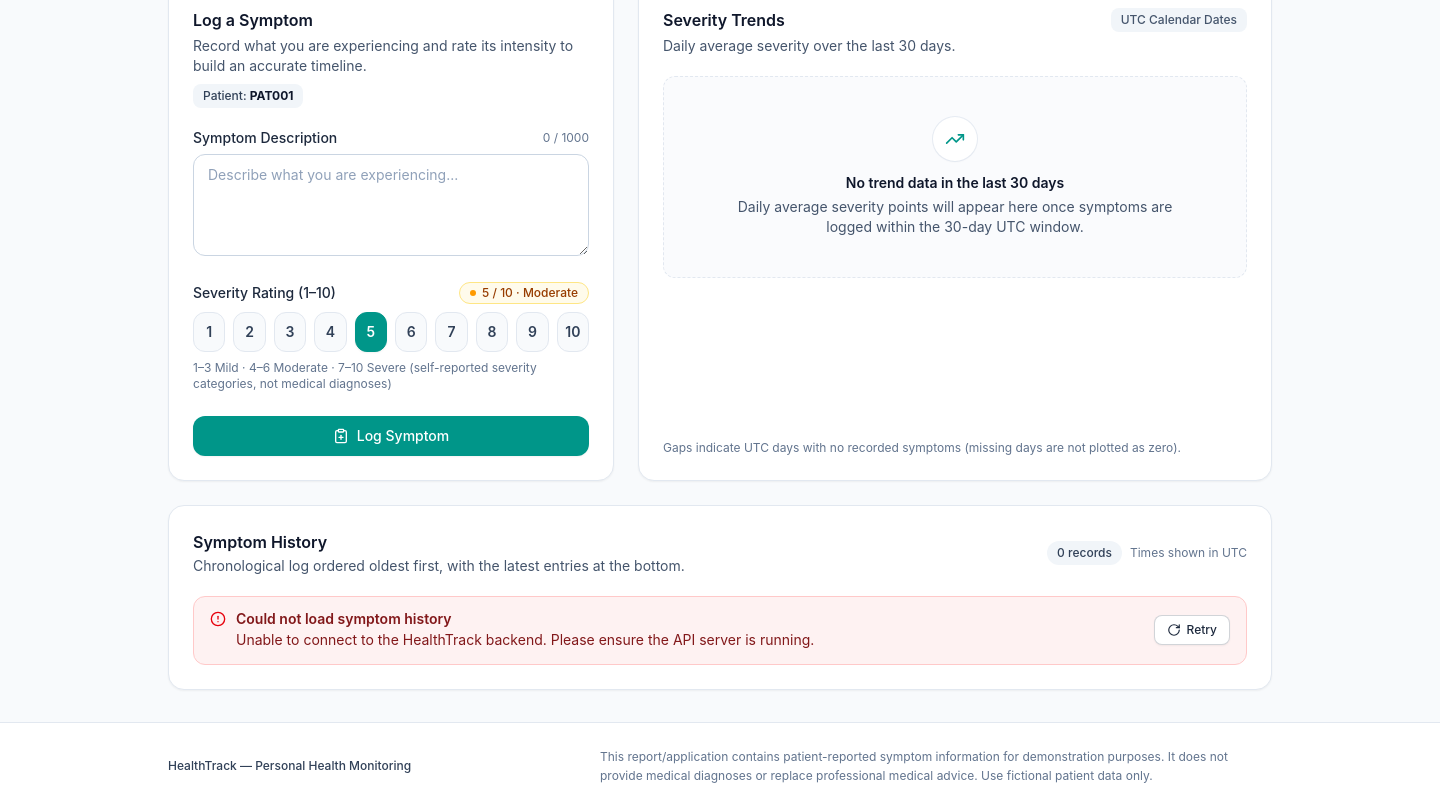
HealthTrack Dashboard › recovers from failed history retrieval via Retry and handles post-save refresh failure
The image size is (1440, 810).
(page scrolled)
Expected: the text "Could not load symptom history" is shown, [236,610,452,627]
Click the button "Retry" at [1192, 630], box [1154,615,1230,645]
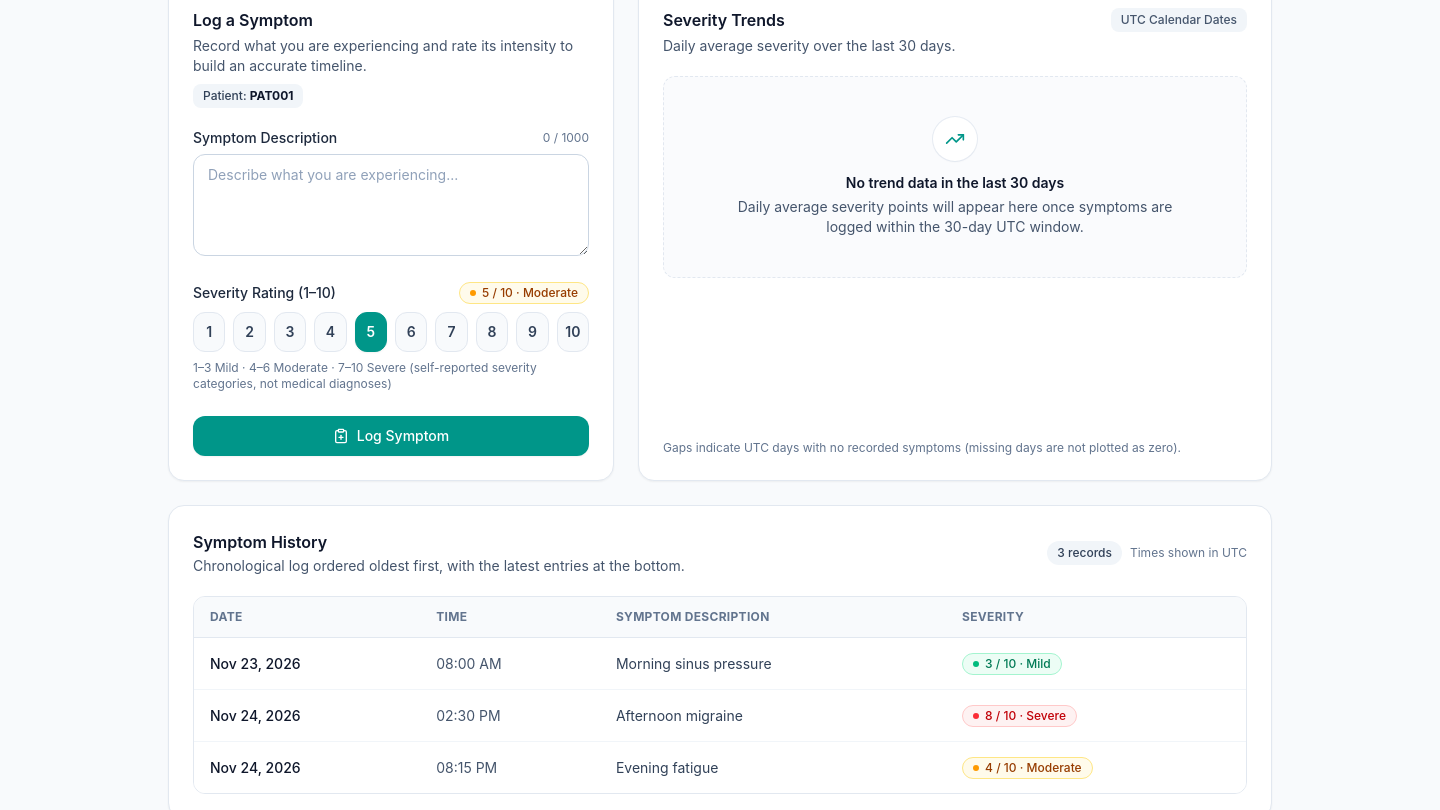
Expected: the text "Morning sinus pressure" is shown, [600,638,946,690]
# Now submit a symptom where POST succeeds (201) but subsequent history refresh fails
Type "Post-save refresh test" into the text box labelled "Symptom Description" at [391, 205], box [193,154,589,256]
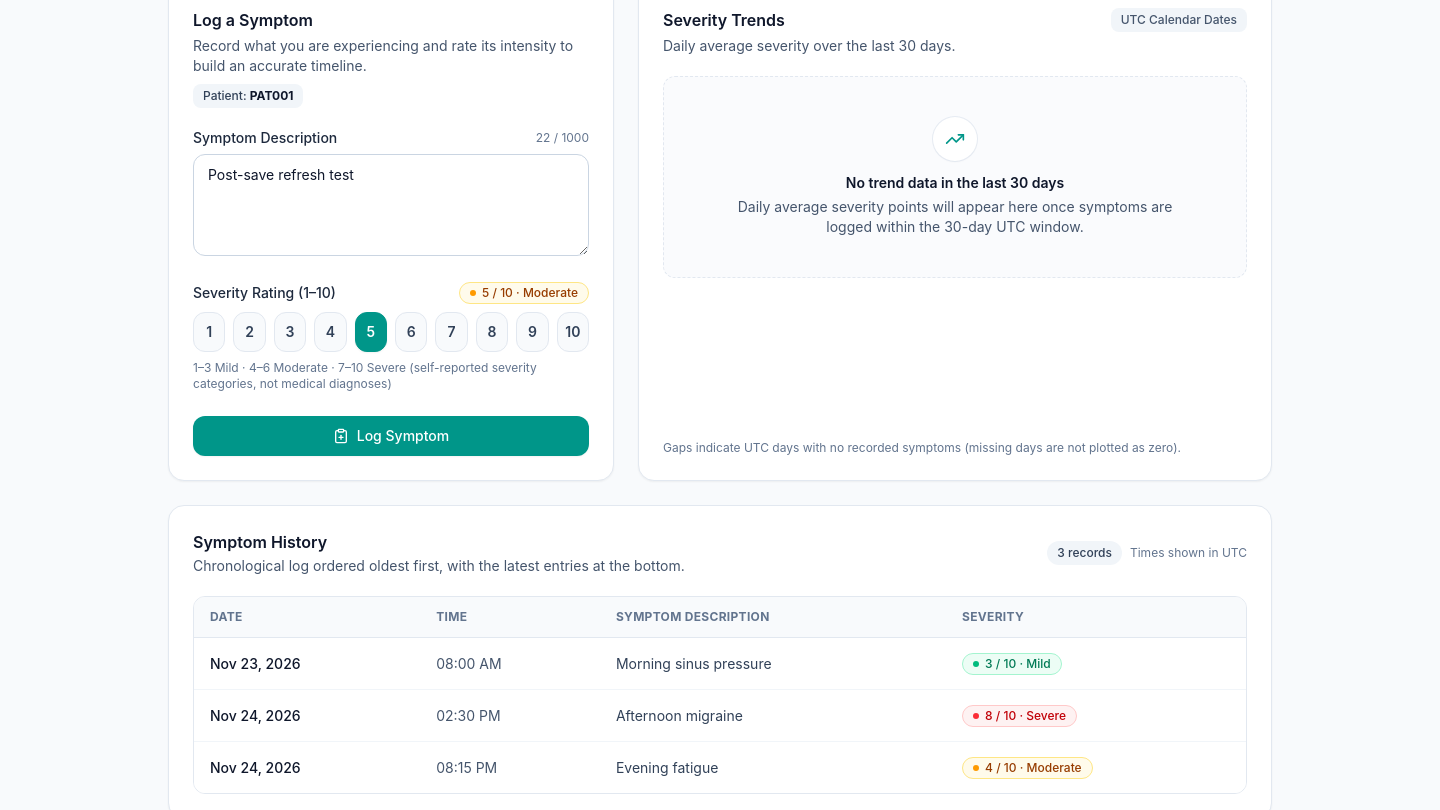
Click the button "Log Symptom" at [391, 436], box [193,416,589,456]
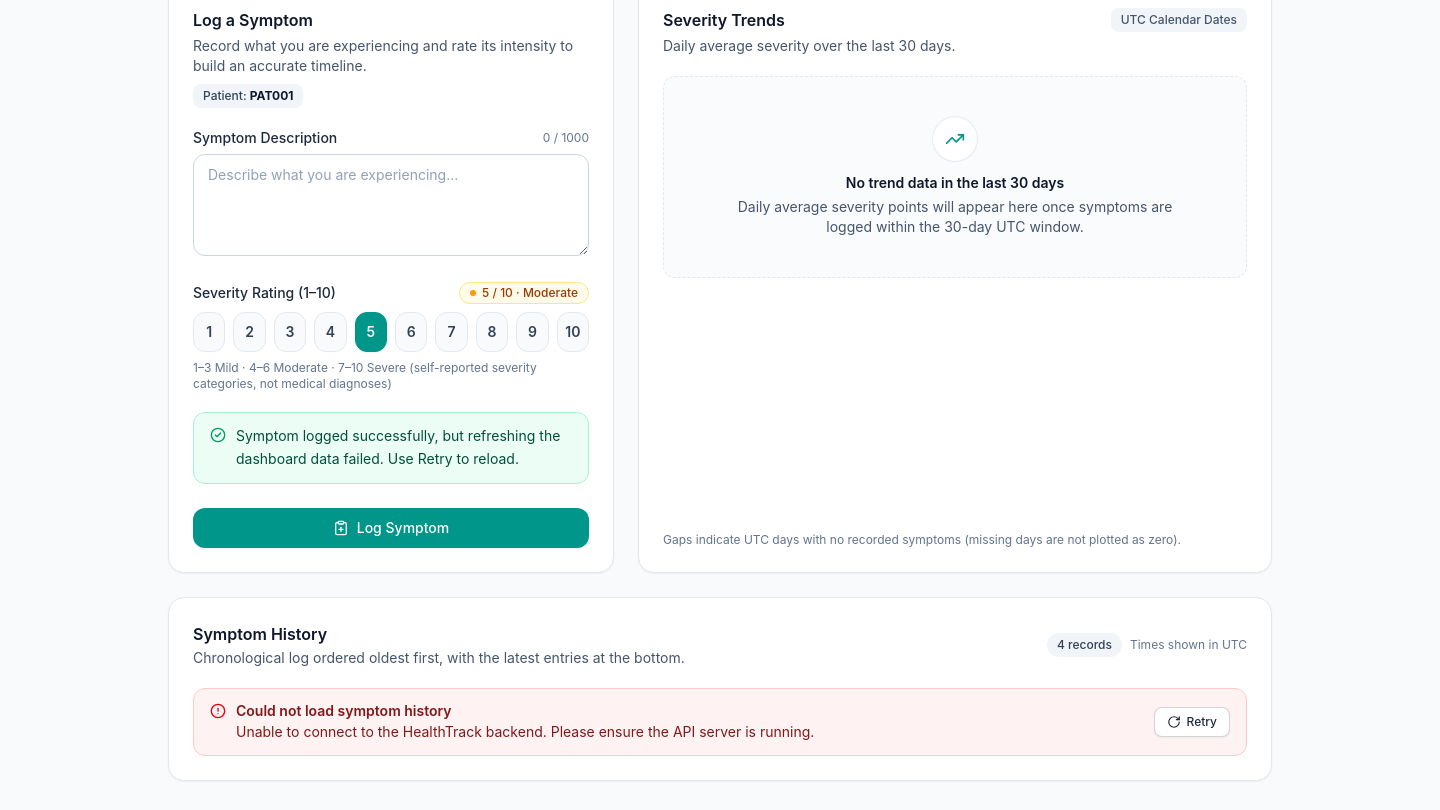
Expected: the text "Symptom logged successfully, but refreshing the dashboard data failed. Use Retry to reload." is shown, [236,427,560,467]
Expected: the text box labelled "Symptom Description" is empty, [193,154,589,256]
